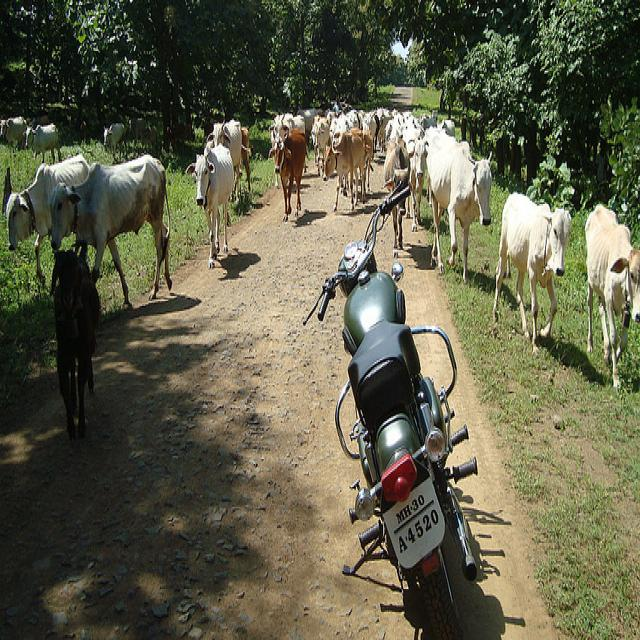motor: (305, 174, 477, 629)
